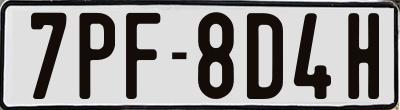4: (292, 11, 332, 98)
7: (28, 11, 69, 100)
8: (195, 10, 235, 103)
D: (244, 13, 285, 103)
F: (125, 10, 160, 100)
H: (348, 12, 380, 100)
P: (76, 11, 116, 103)
